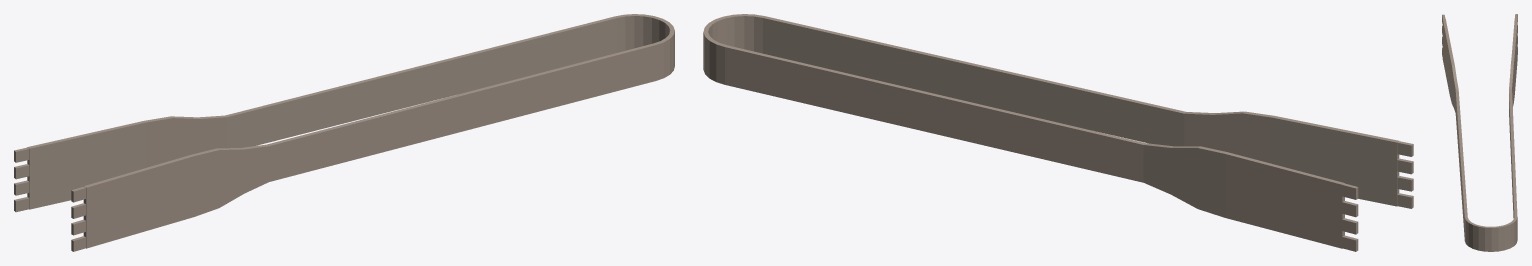
File: SM_Cook_Tongs_01.fbx
The picture shows the model from 3 angles, left to right: view 1: azimuth 30°, elevation 25°; view 2: azimuth 150°, elevation 25°; view 3: azimuth 270°, elevation 25°; orthographic projection. The views are drawn at different scales.
Visible parts, largest first — view 1: SM_Cook_Tongs_01; view 2: SM_Cook_Tongs_01; view 3: SM_Cook_Tongs_01.
Part boxes in pixels (box(x1,y1,x2,y2)): SM_Cook_Tongs_01: box(14, 14, 674, 251); SM_Cook_Tongs_01: box(703, 14, 1413, 251); SM_Cook_Tongs_01: box(1442, 14, 1517, 251).
Bounding box in the file's own units: 0.2403 × 0.022 × 0.0374.
Materials: 1 (1 with a texture image).
